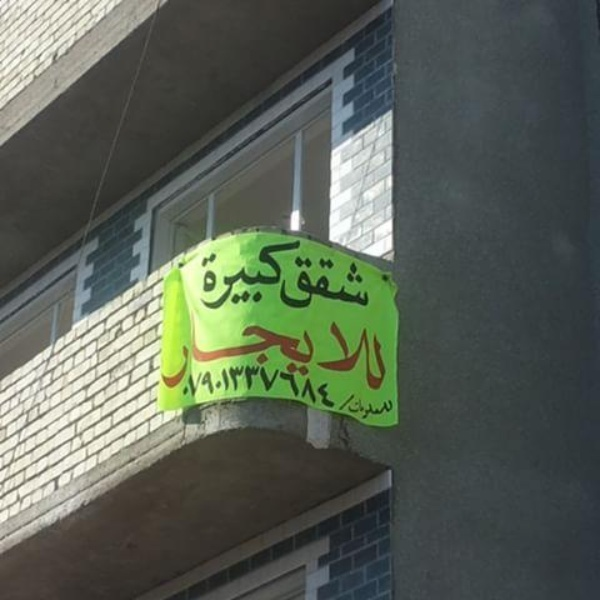text: (177, 307, 192, 393), (193, 307, 208, 393), (209, 307, 224, 393), (225, 307, 240, 393), (241, 307, 256, 393), (257, 307, 272, 393), (273, 307, 288, 393), (289, 307, 304, 393), (305, 307, 320, 393), (321, 307, 336, 393), (337, 307, 352, 393), (353, 307, 368, 393), (369, 307, 384, 393), (209, 238, 224, 314), (225, 238, 240, 314), (241, 238, 256, 314), (257, 238, 272, 314), (273, 238, 288, 314), (289, 238, 304, 314), (305, 251, 320, 317), (321, 251, 336, 317), (337, 251, 352, 317), (353, 251, 368, 317), (353, 388, 368, 436), (369, 388, 384, 436), (193, 362, 208, 409), (209, 362, 224, 409), (225, 362, 240, 409), (241, 362, 256, 409), (257, 362, 272, 409), (273, 362, 288, 409), (289, 362, 304, 409), (305, 362, 320, 409), (321, 362, 336, 409), (168, 307, 176, 393), (385, 388, 398, 436), (305, 238, 312, 314), (369, 251, 377, 317), (182, 362, 192, 409), (344, 388, 352, 436), (385, 307, 388, 393), (302, 251, 304, 317), (207, 238, 208, 314), (337, 362, 338, 409)
